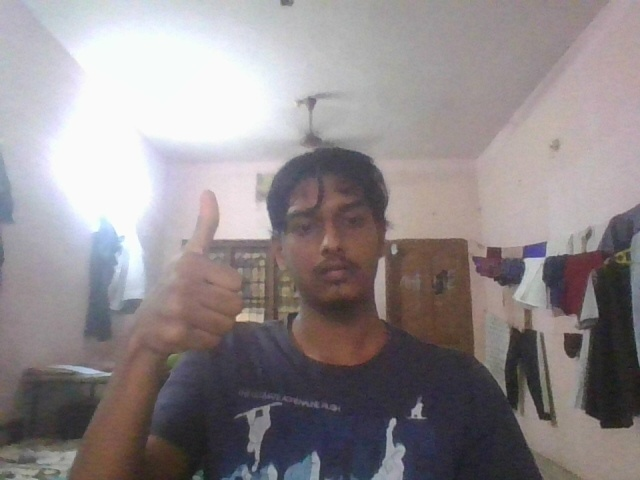thumbsup: (125, 189, 255, 370)
